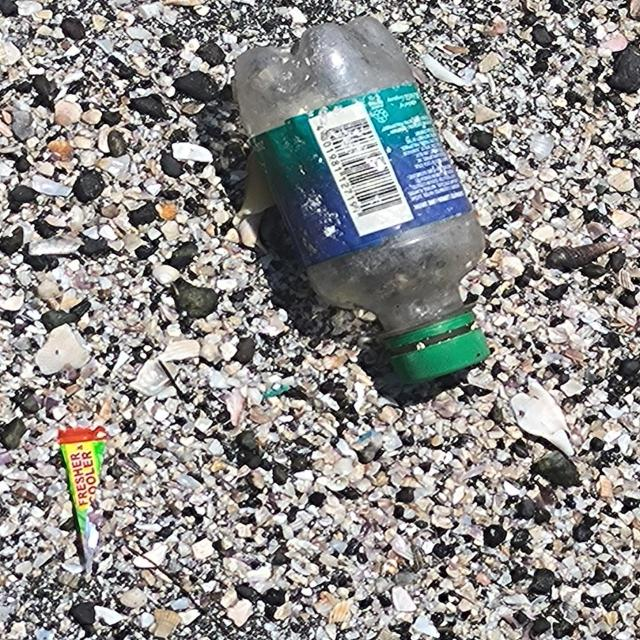plastic_waste: (232, 16, 496, 389), (56, 425, 110, 577)
